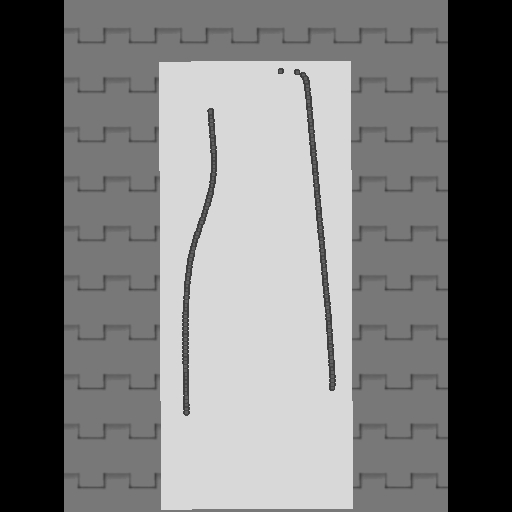Defect: (182, 388, 336, 491)
